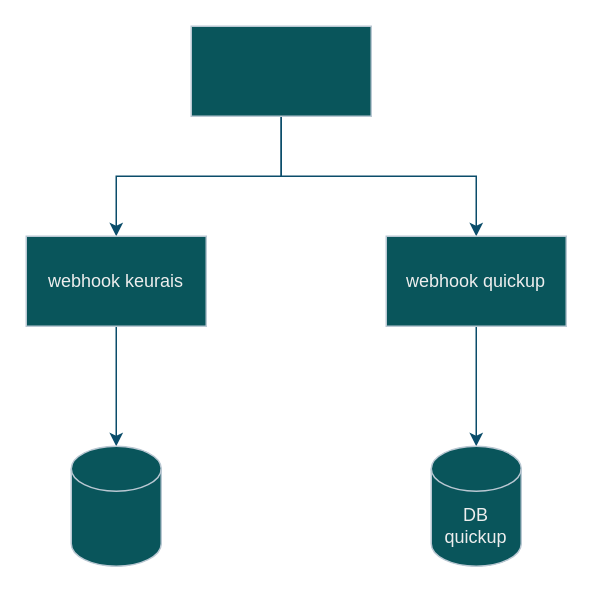
The diagram is 593 pixels wide and 593 high, and some of its shapes have lost their labels. Here are the shapes that lost their labels. From the top down, the centre of each, then its label:
the point at 280,70: SosialApi - Keurais
the point at 115,505: DB keurais
